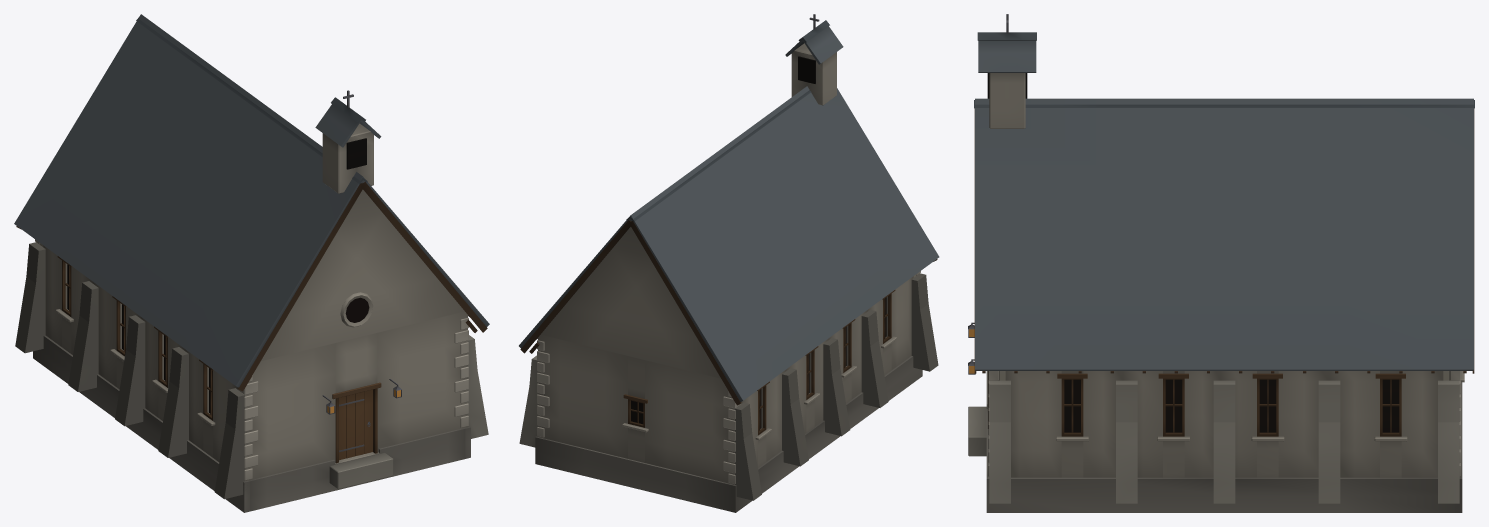
Rendered from chapel.glb.
3 views of the same model, side by side, from view 1: azimuth 30°, elevation 25°; view 2: azimuth 150°, elevation 25°; view 3: azimuth 270°, elevation 25° (orthographic). The views are drawn at different scales.
Visible parts, largest first — view 1: ext, door0; view 2: ext; view 3: ext.
Part boxes in pixels (left/top/right/bottom): ext: left=14, top=14, right=489, bottom=512; door0: left=339, top=389, right=372, bottom=460; ext: left=519, top=14, right=939, bottom=512; ext: left=968, top=14, right=1474, bottom=512.
Bounding box in the file's own units: 9.5 × 13.31 × 14.01.
